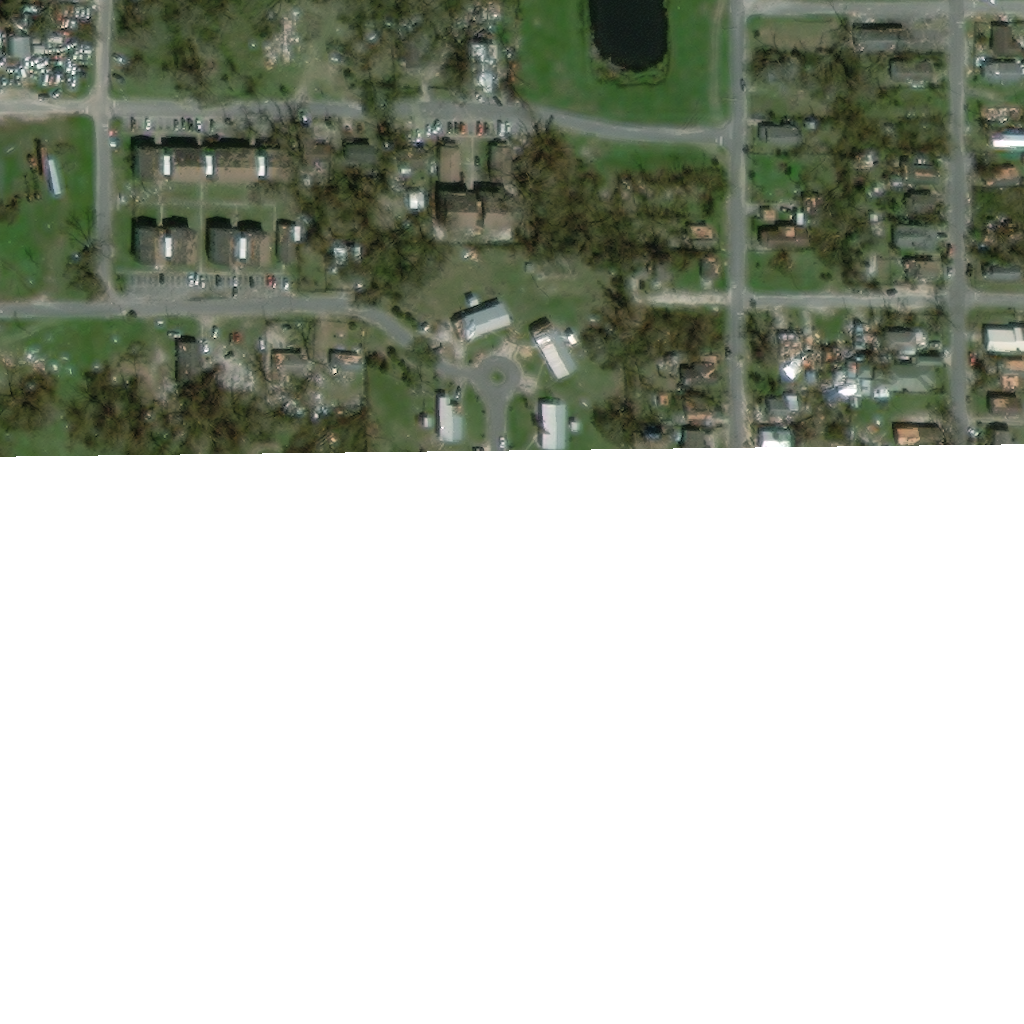destroyed: (274, 20, 305, 66), (777, 331, 819, 363)
major_damage: (532, 320, 575, 375), (452, 303, 508, 341), (987, 360, 1023, 391), (437, 396, 460, 441), (682, 401, 717, 428), (989, 398, 1022, 421), (818, 343, 849, 367), (697, 225, 718, 246), (704, 258, 721, 282), (895, 427, 913, 440), (1016, 208, 1023, 237), (763, 211, 776, 219)
minor_damage: (130, 147, 259, 182), (433, 190, 512, 229), (132, 228, 195, 265), (207, 229, 267, 267), (764, 213, 808, 248), (887, 61, 933, 81), (909, 164, 944, 189), (871, 29, 918, 46), (278, 225, 296, 266), (332, 351, 362, 373), (686, 364, 719, 382), (653, 260, 675, 286), (911, 260, 939, 279), (991, 430, 1012, 439)
no_damage: (873, 356, 943, 392), (7, 22, 34, 60), (539, 402, 563, 444), (985, 327, 1023, 353), (897, 225, 935, 248), (993, 25, 1021, 55), (395, 35, 418, 69), (761, 62, 796, 84), (892, 332, 925, 355), (981, 63, 1020, 82), (32, 155, 48, 192), (991, 265, 1023, 283), (993, 172, 1023, 188), (769, 129, 798, 144), (991, 134, 1023, 146), (991, 105, 1021, 117), (683, 431, 703, 442), (857, 365, 872, 378), (892, 179, 908, 190), (566, 333, 578, 345), (467, 297, 479, 308), (570, 422, 578, 432)
unclassified: (23, 158, 33, 175)
